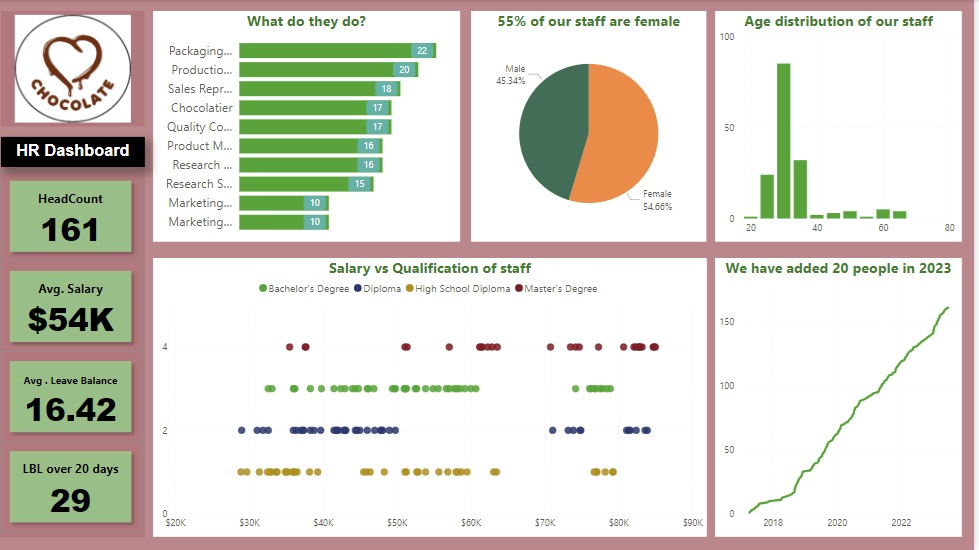

What the dashboard file says about the page in this screenshot:
{"tool":"powerbi","page":{"name":"Dashboard","canvas":[1280,720],"ordinal":0},"visuals":[{"type":"cardVisual","fields":{"Data":["data.HeadCount","data.Avg. Salary","data.Avg . Leave Balance","data.LBL over 20 days"]},"box":[0,218.3,195,485],"z":0},{"type":"clusteredBarChart","title":"What do they do?","fields":{"Category":["data.Job Title"],"Y":["data.HeadCount"]},"box":[205,15,401.7,301.7],"z":1000},{"type":"pieChart","title":"55% of our staff are female","fields":{"Category":["data.Gender"],"Y":["data.HeadCount"]},"box":[621.7,15,308.3,301.7],"z":2000},{"type":"clusteredColumnChart","title":"Age distribution of our staff","fields":{"Category":["data.Age (bins)"],"Y":["data.HeadCount"]},"box":[941.7,15,323.3,301.7],"z":3000},{"type":"scatterChart","title":"Salary vs Qualification of staff","fields":{"Y":["Qualifi.Custom"],"X":["data.Salary"],"Series":["Qualifi.Qualification"]},"box":[205,338.3,725,365],"z":4000},{"type":"lineChart","title":"We have added 20 people in 2023","fields":{"Y":["Qualifi.Cumulative Headcount"],"Category":["data.Date of Join"]},"box":[941.7,338.3,323.3,365],"z":5000},{"type":"textbox","box":[6.4,178.7,188.3,39.4],"z":6000},{"type":"image","box":[6.4,14.9,188.3,151.1],"z":7000}]}

Visuals, with their boxes in screenshot pixels (x1, y1, x2, y2), scaled from the page's 1280x720 canvas onto the 979x550 screenshot:
cardVisual - data.HeadCount x data.Avg. Salary: region(0, 167, 149, 537)
"What do they do?" clusteredBarChart: region(157, 11, 464, 242)
"55% of our staff are female" pieChart: region(476, 11, 711, 242)
"Age distribution of our staff" clusteredColumnChart: region(720, 11, 968, 242)
"Salary vs Qualification of staff" scatterChart: region(157, 258, 711, 537)
"We have added 20 people in 2023" lineChart: region(720, 258, 968, 537)
textbox: region(5, 137, 149, 167)
image: region(5, 11, 149, 127)
